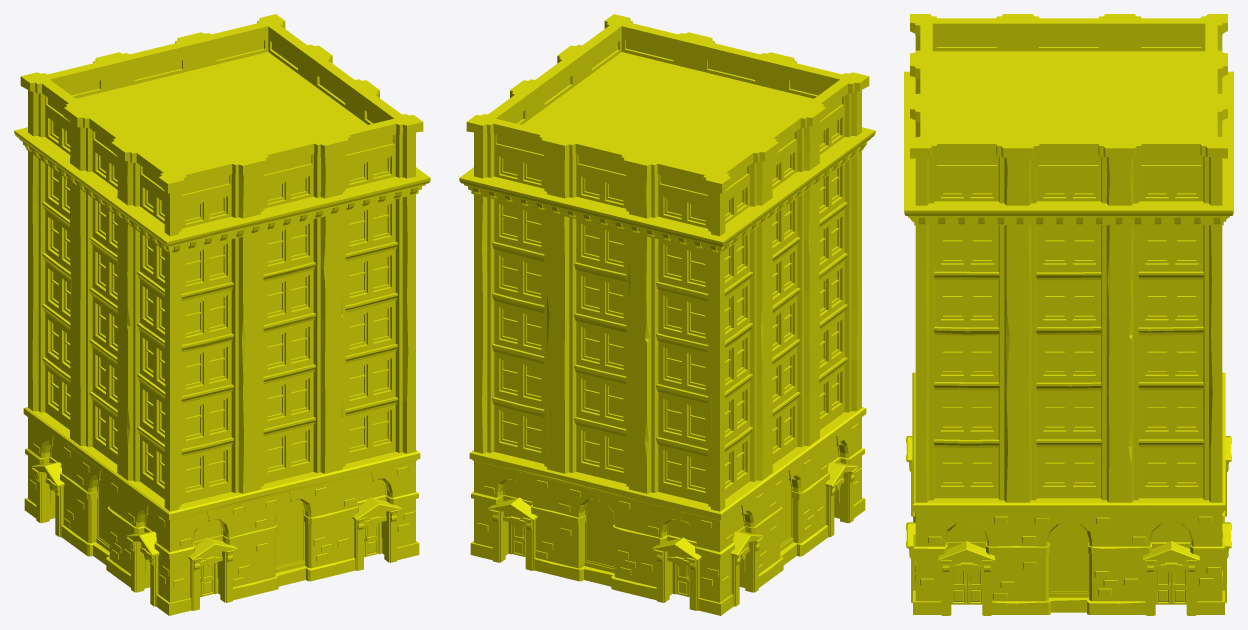
File: cty_offL.glb
3 views of the same model, side by side, from view 1: azimuth 30°, elevation 25°; view 2: azimuth 150°, elevation 25°; view 3: azimuth 270°, elevation 25° (orthographic). The views are drawn at different scales.
Parts seen in each view (by area): view 1: SM_Bld_OfficeOld_Large_01; view 2: SM_Bld_OfficeOld_Large_01; view 3: SM_Bld_OfficeOld_Large_01.
Part boxes in pixels (<box>): SM_Bld_OfficeOld_Large_01: <box>14,14,430,615</box>; SM_Bld_OfficeOld_Large_01: <box>459,14,875,615</box>; SM_Bld_OfficeOld_Large_01: <box>904,14,1233,615</box>.
Size of the model in its own units: 0.1609 by 0.2525 by 0.1612.
1 material, 1 textured.
